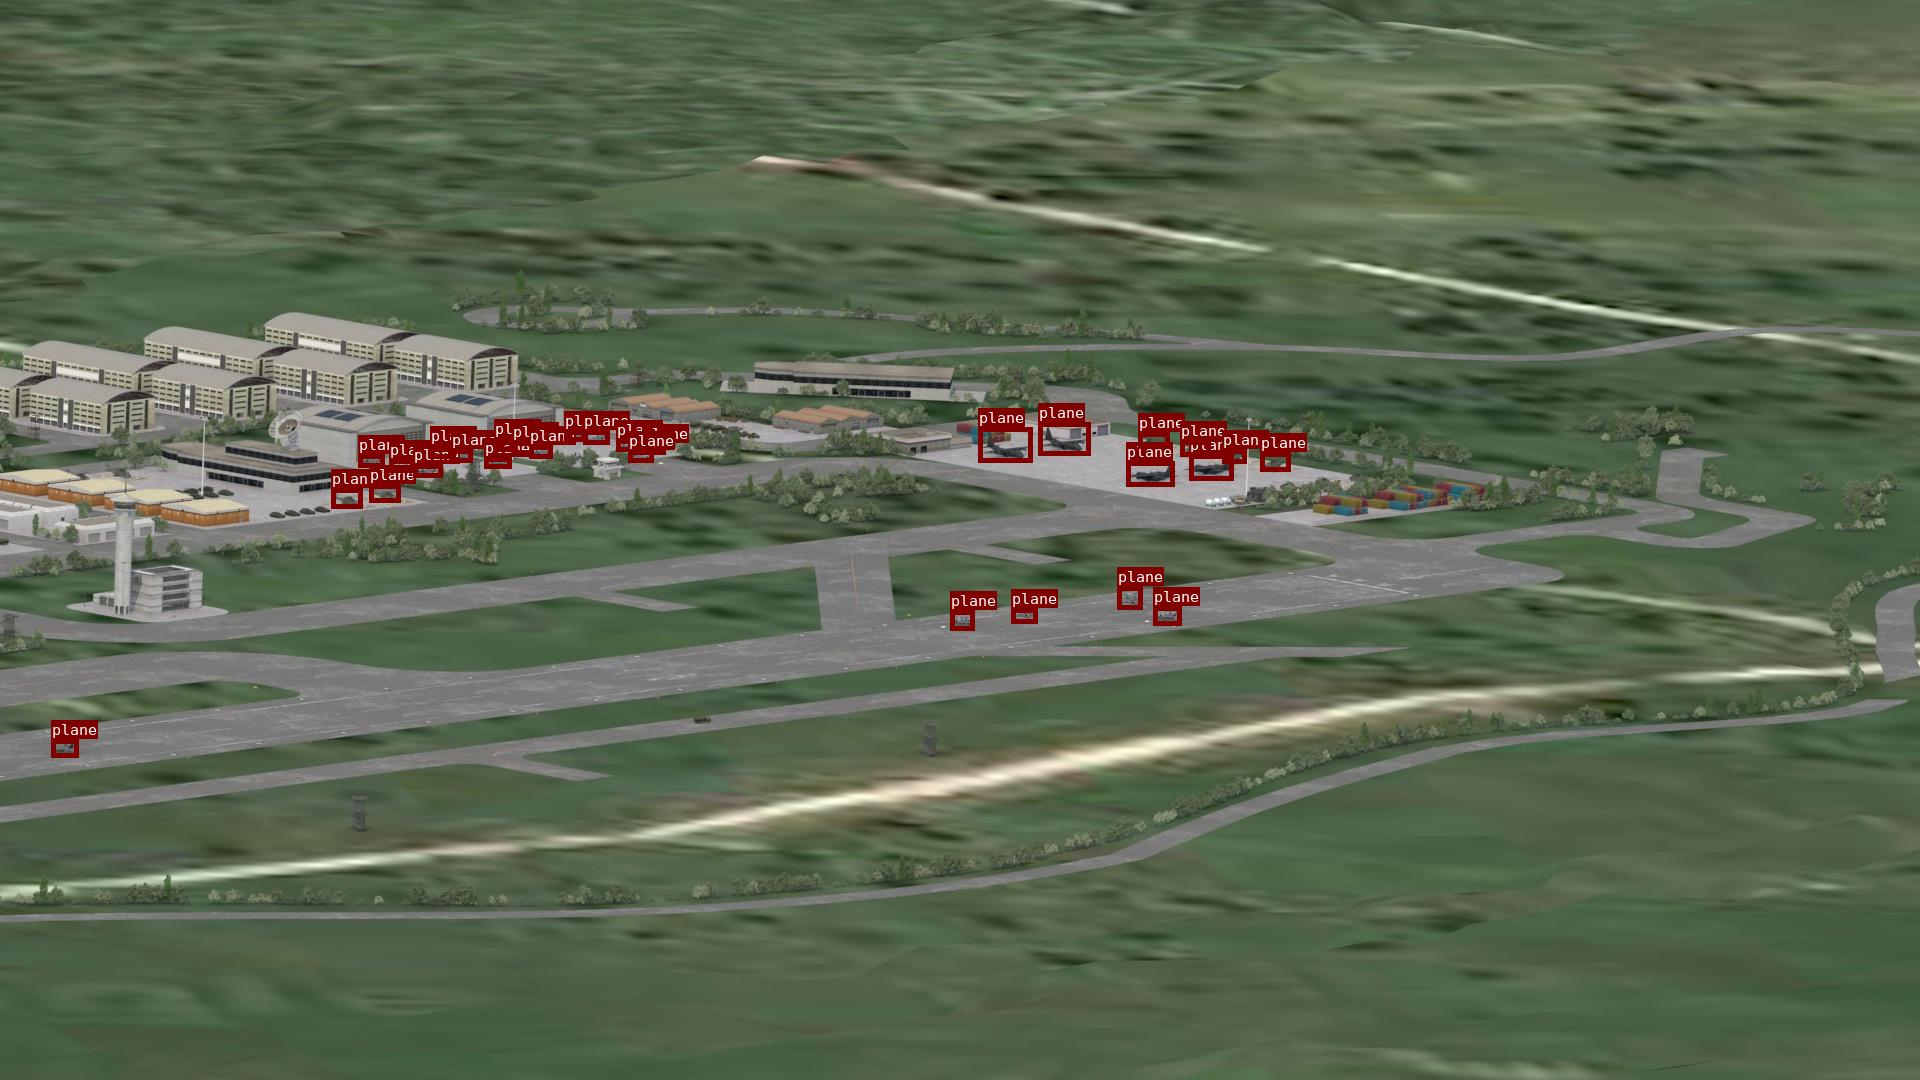plane: (978, 427, 1033, 462), (1038, 422, 1091, 455), (1126, 462, 1174, 487), (1189, 454, 1233, 480), (331, 488, 363, 508), (1117, 585, 1142, 609), (369, 484, 400, 502), (1153, 607, 1182, 625), (1261, 452, 1290, 471), (949, 611, 975, 630), (51, 738, 78, 757), (1138, 433, 1168, 448), (1180, 440, 1211, 456), (413, 464, 442, 477), (583, 430, 609, 444), (1011, 608, 1036, 622), (357, 454, 384, 467), (1222, 448, 1246, 463), (389, 459, 414, 472), (529, 444, 553, 458), (616, 439, 641, 451), (628, 450, 653, 462), (430, 444, 452, 458), (484, 458, 512, 468), (451, 448, 472, 462), (512, 440, 533, 454), (495, 438, 513, 451), (642, 443, 665, 454), (564, 430, 585, 440)
